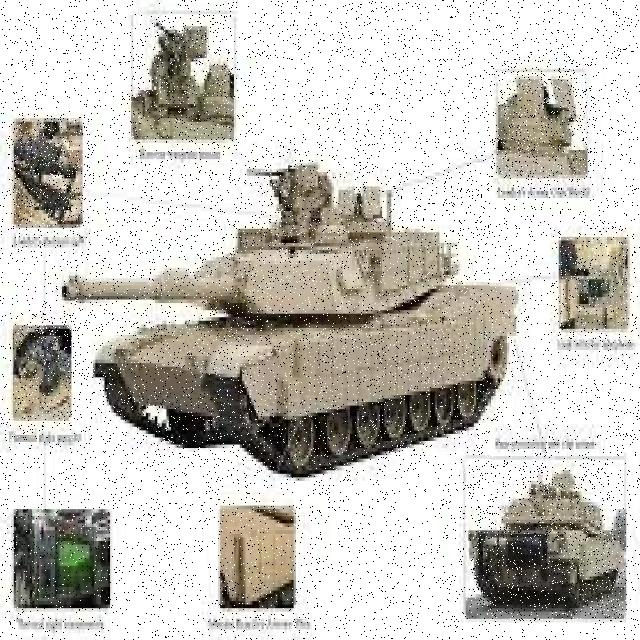MIL_MBT: (76, 165, 490, 468), (469, 464, 622, 622), (492, 53, 596, 182), (132, 16, 231, 145), (10, 115, 89, 230), (556, 228, 636, 341), (13, 312, 76, 431)
